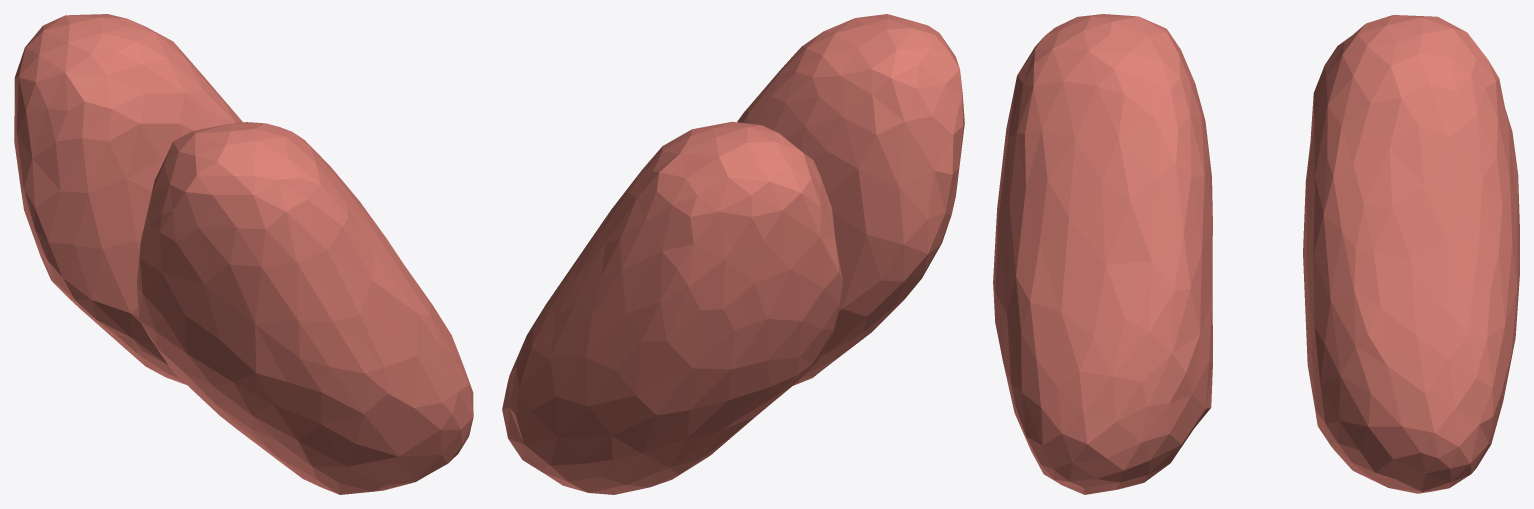
3 renders of one model, left to right at view 1: azimuth 30°, elevation 25°; view 2: azimuth 150°, elevation 25°; view 3: azimuth 270°, elevation 25°, orthographic. The views are drawn at different scales.
Visible parts, largest first — view 1: 515.obj; view 2: 515.obj; view 3: 515.obj.
Boxes of the visible parts, box(x1,y1,x2,y2) form: 515.obj: box(14, 14, 473, 494); 515.obj: box(502, 14, 964, 494); 515.obj: box(993, 14, 1519, 494).
Size of the model in its own units: 787 by 953 by 1156.
